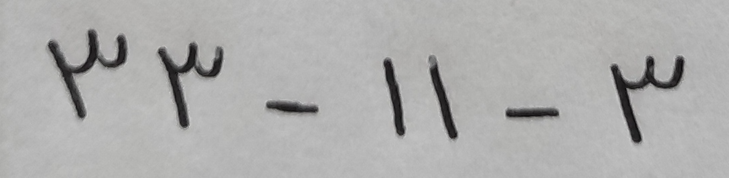character: (47, 24, 129, 122), (608, 53, 685, 146), (156, 37, 224, 128), (425, 52, 460, 140), (381, 55, 407, 136), (265, 97, 321, 116), (505, 103, 561, 119)
